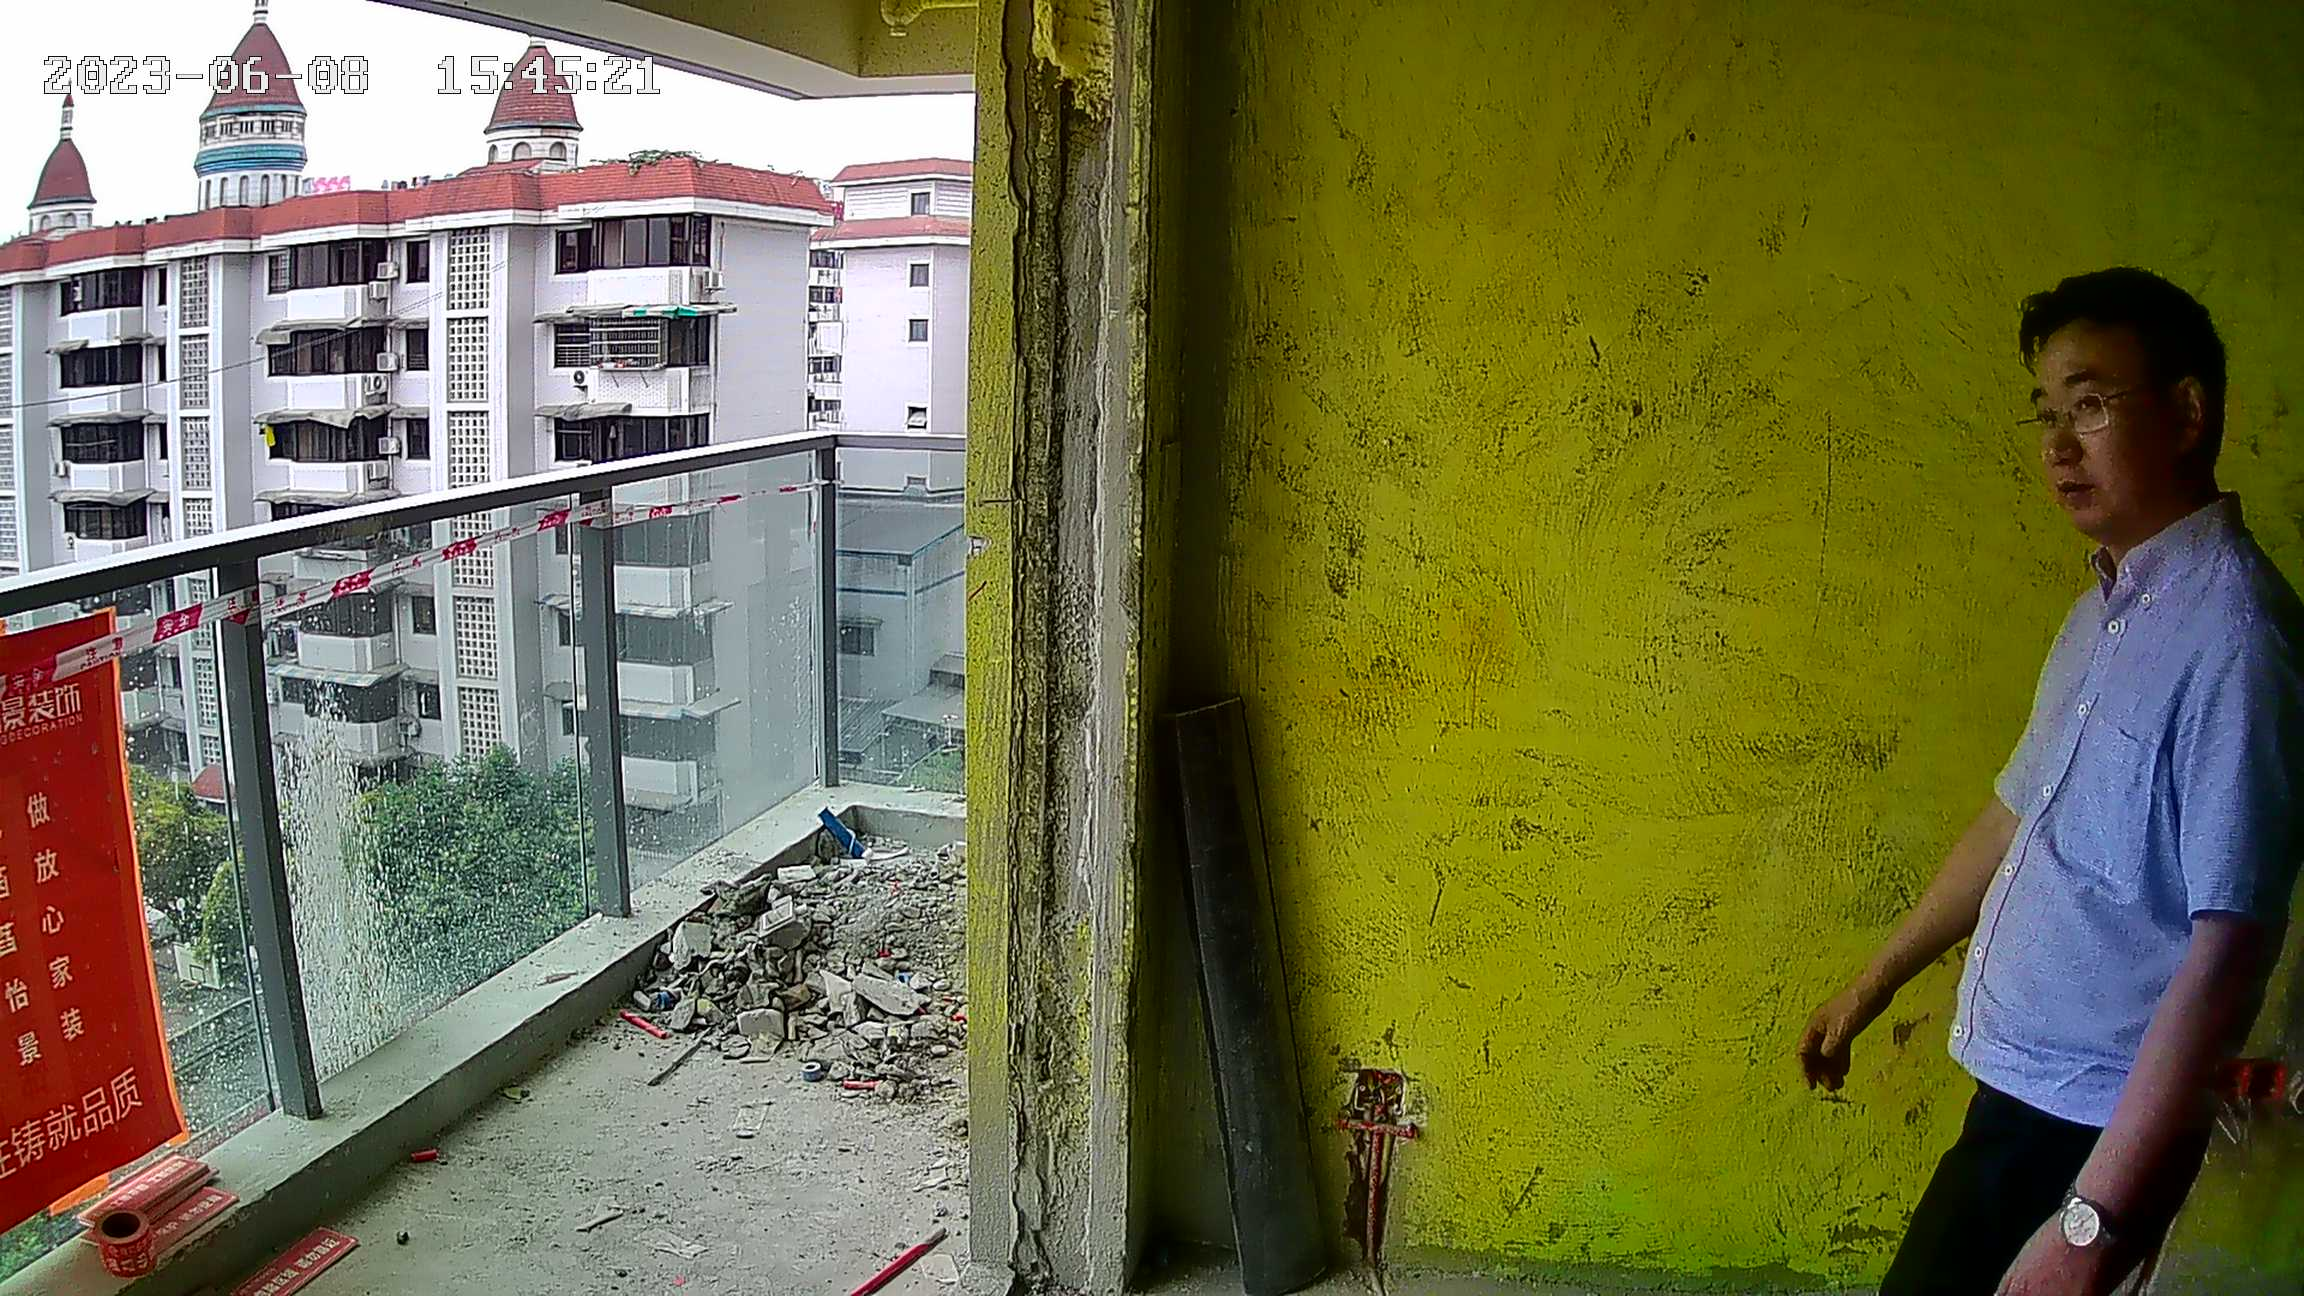people: (1901, 263, 2257, 1282)
window: (11, 461, 984, 1137)
